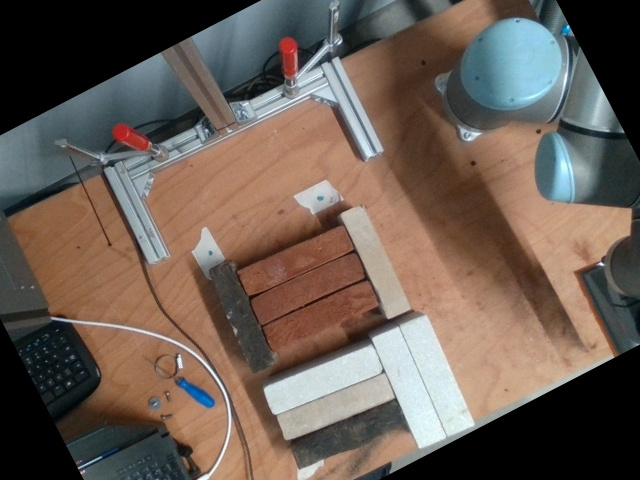brick-side: (401, 316, 472, 436), (373, 328, 444, 447), (263, 346, 382, 416), (276, 375, 394, 441), (239, 228, 351, 296), (252, 255, 364, 322), (264, 282, 376, 349), (289, 403, 404, 467), (341, 208, 408, 317), (208, 263, 272, 373)
